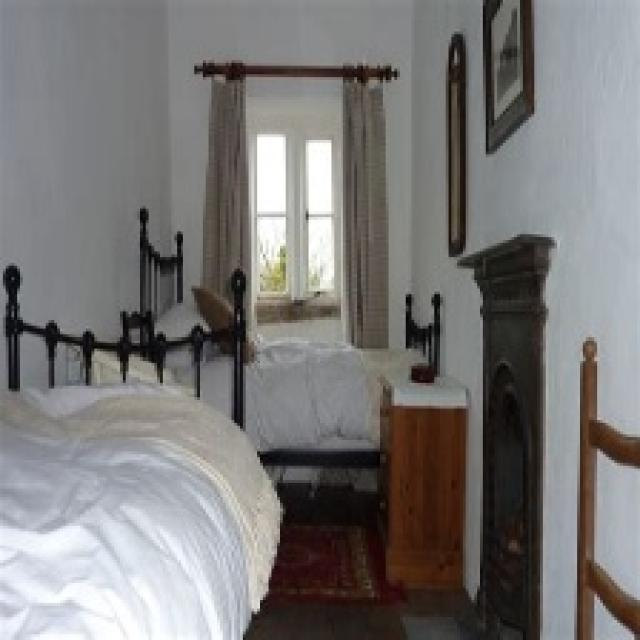Bed: (0, 263, 283, 637), (131, 206, 440, 494)
